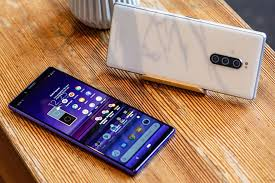sony: (6, 64, 175, 183)
